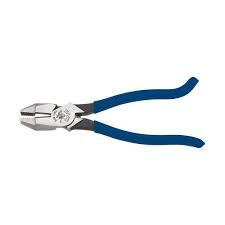pliers: (17, 75, 204, 148)
